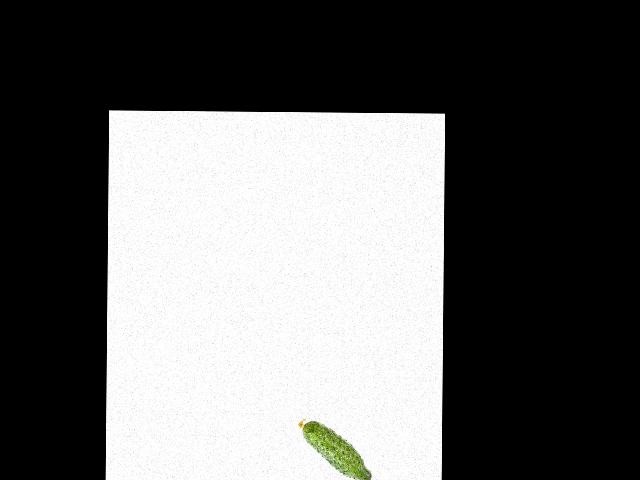cucumber: (297, 419, 371, 480)
